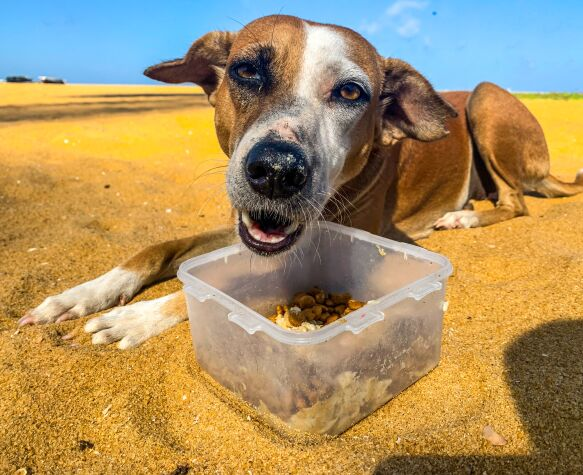Dog: (137, 5, 427, 262)
